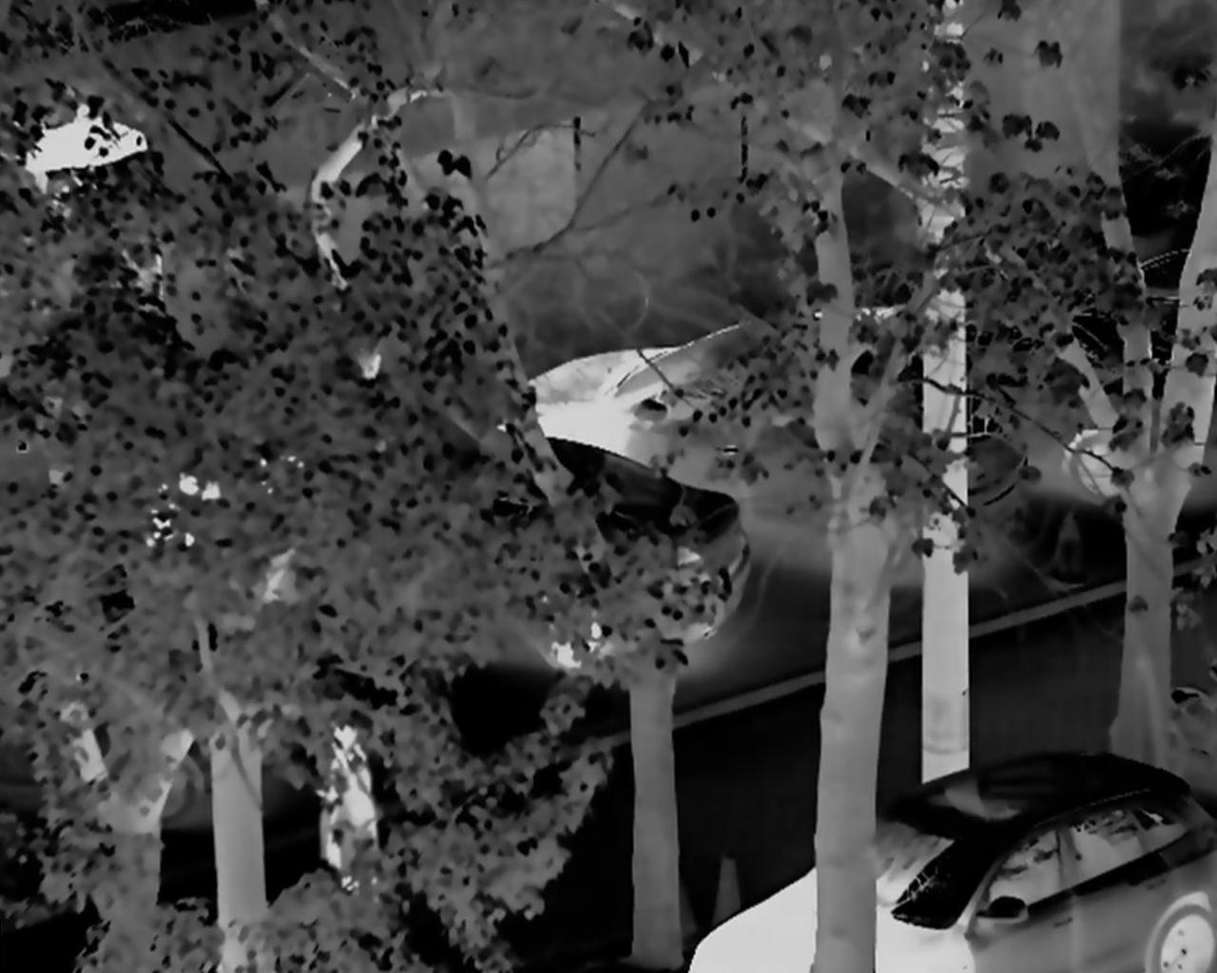person: (307, 711, 388, 935)
